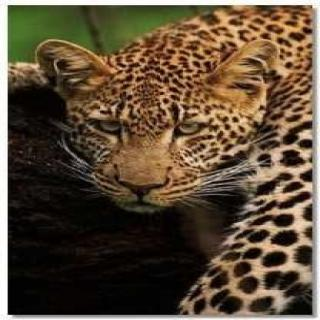Leopard: (48, 28, 320, 319)
